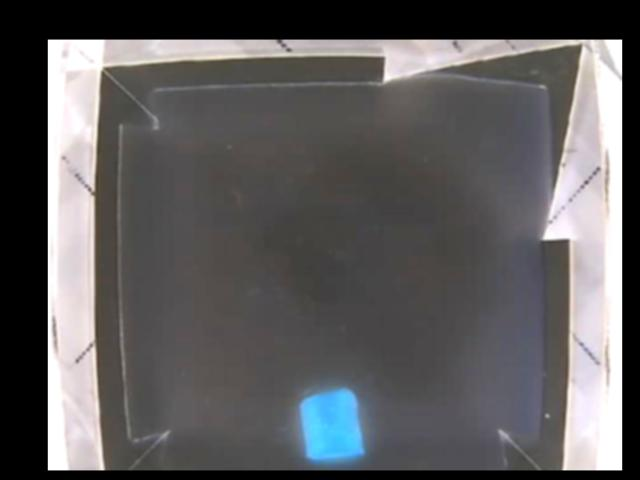Carrot: (298, 387, 364, 458)
